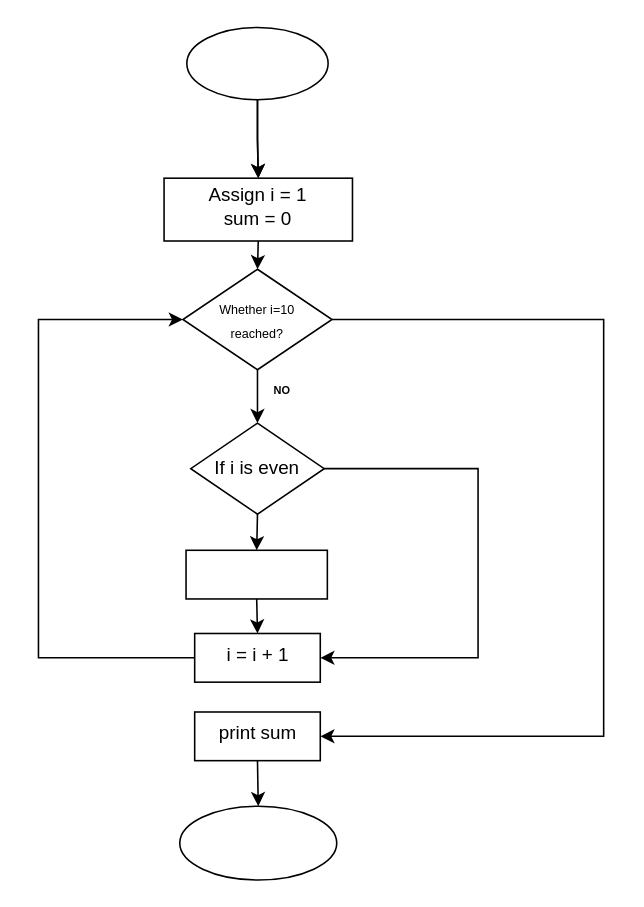
Image size: 644x907. Some labels were removed from this diagram. Each missing label, with the box of its shape:
End: (178, 805, 337, 880)
Start: (185, 26, 328, 100)
sum = sum + i: (184, 549, 327, 599)
